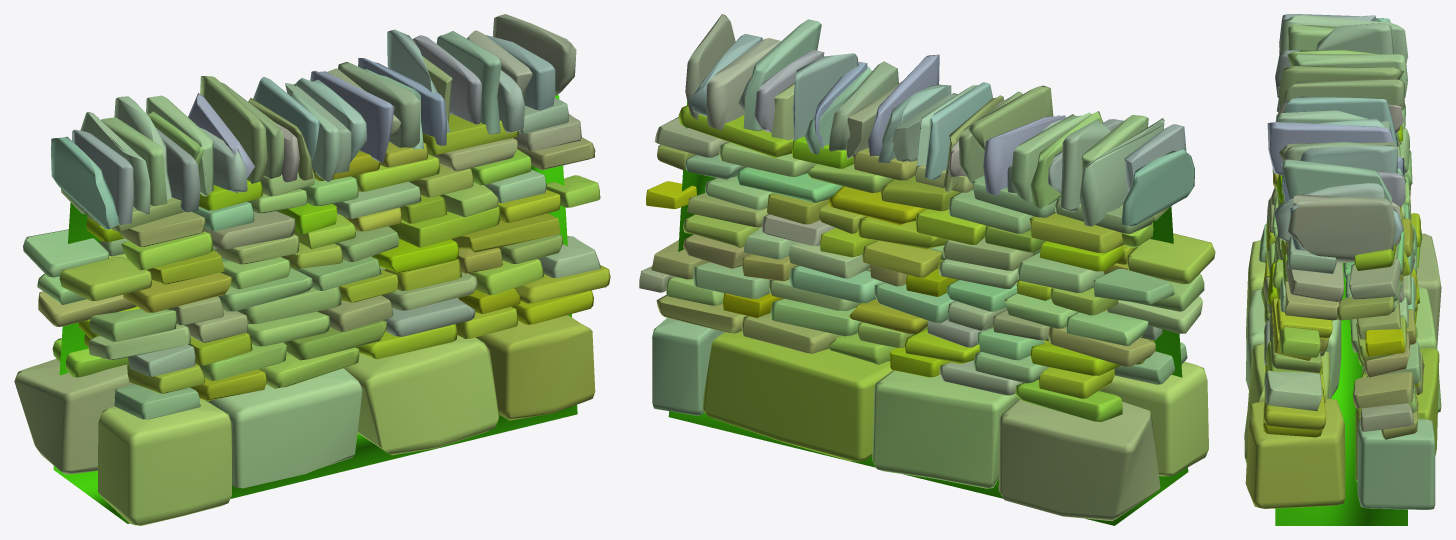
The model's file is SM_Prop_wall_stone_6.glb.
3 views of the same model, side by side, from view 1: azimuth 30°, elevation 25°; view 2: azimuth 150°, elevation 25°; view 3: azimuth 270°, elevation 25° (orthographic). The views are drawn at different scales.
Visible parts, largest first — view 1: SM_Prop_wall_stone_6; view 2: SM_Prop_wall_stone_6; view 3: SM_Prop_wall_stone_6.
Part boxes in pixels (left/top/right/bottom): SM_Prop_wall_stone_6: left=14, top=14, right=610, bottom=525; SM_Prop_wall_stone_6: left=639, top=14, right=1215, bottom=525; SM_Prop_wall_stone_6: left=1244, top=14, right=1441, bottom=525.
Size of the model in its own units: 2.24 by 1.54 by 0.8321.
